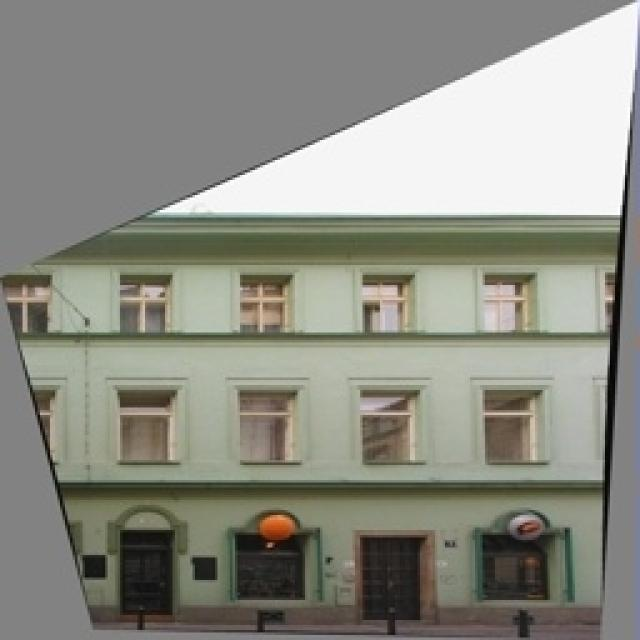building: (0, 210, 625, 640)
